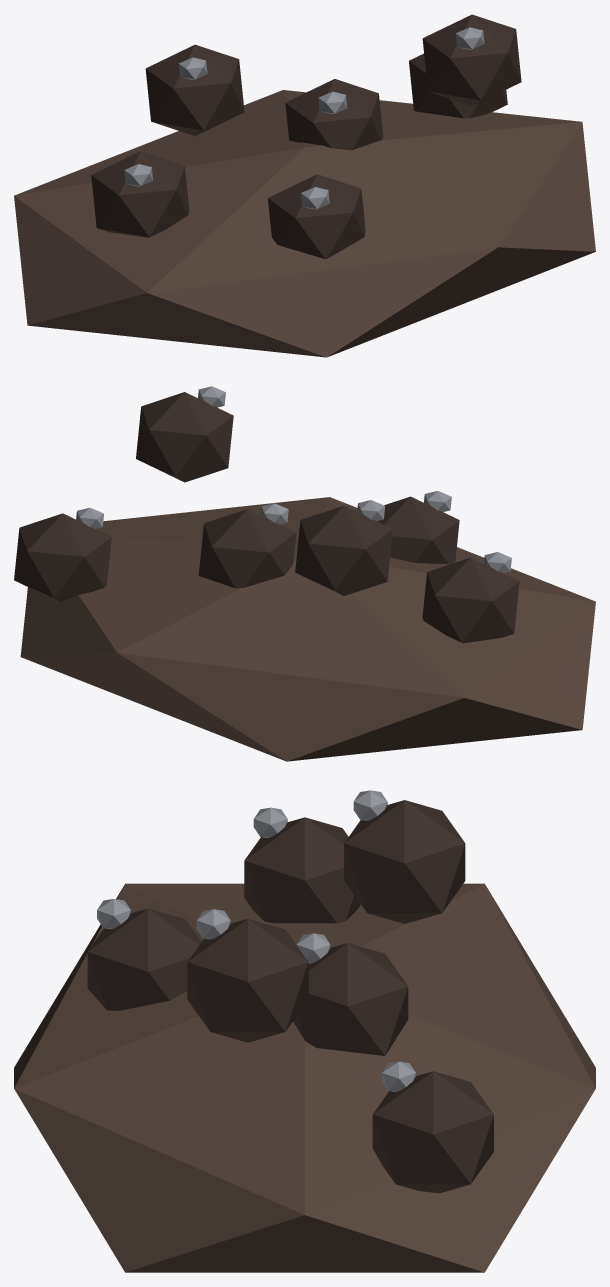
Rendered from res_pearls.glb.
The picture shows the model from 3 angles, top to bottom: view 1: azimuth 30°, elevation 25°; view 2: azimuth 150°, elevation 25°; view 3: azimuth 270°, elevation 25°; orthographic projection. The views are drawn at different scales.
Visible parts, largest first — view 1: res_pearls; view 2: res_pearls; view 3: res_pearls.
Part boxes in pixels (x1,y1,x2,y2): res_pearls: (14,14,595,357); res_pearls: (14,386,595,761); res_pearls: (14,790,595,1272).
Bounding box in the file's own units: 0.3041 × 0.134 × 0.2042.
